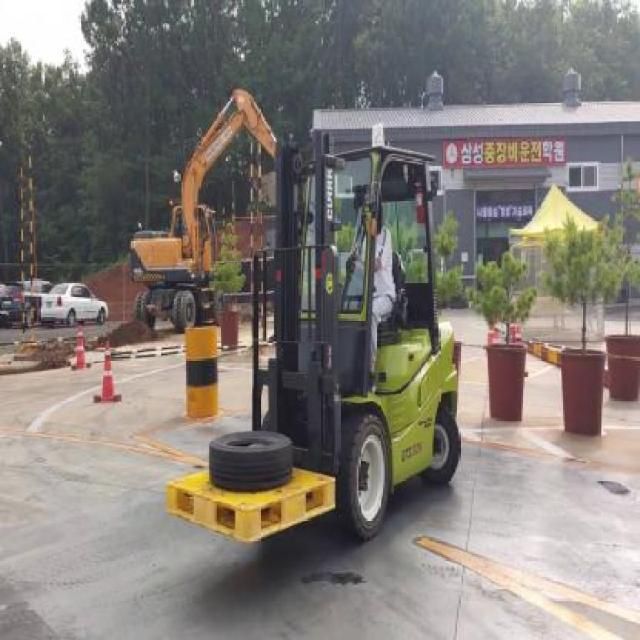forklift: (161, 143, 460, 546)
